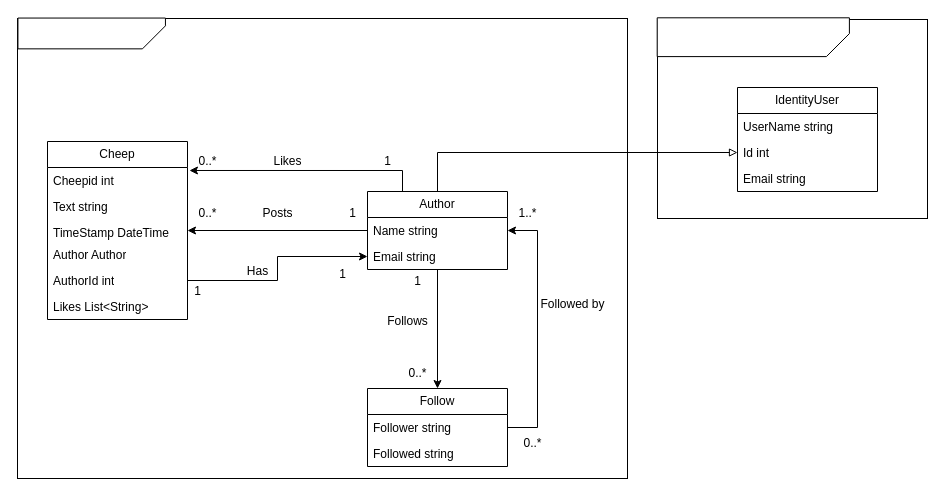
Image size: 945x496. Some labels were removed from this diagram. The box of each missing label's shape, as (x1, y1, x2, y2) in pixels:
Chirp.Core: (17, 17, 166, 49)
Microsoft.AspNetCore.Identity: (656, 17, 849, 57)
